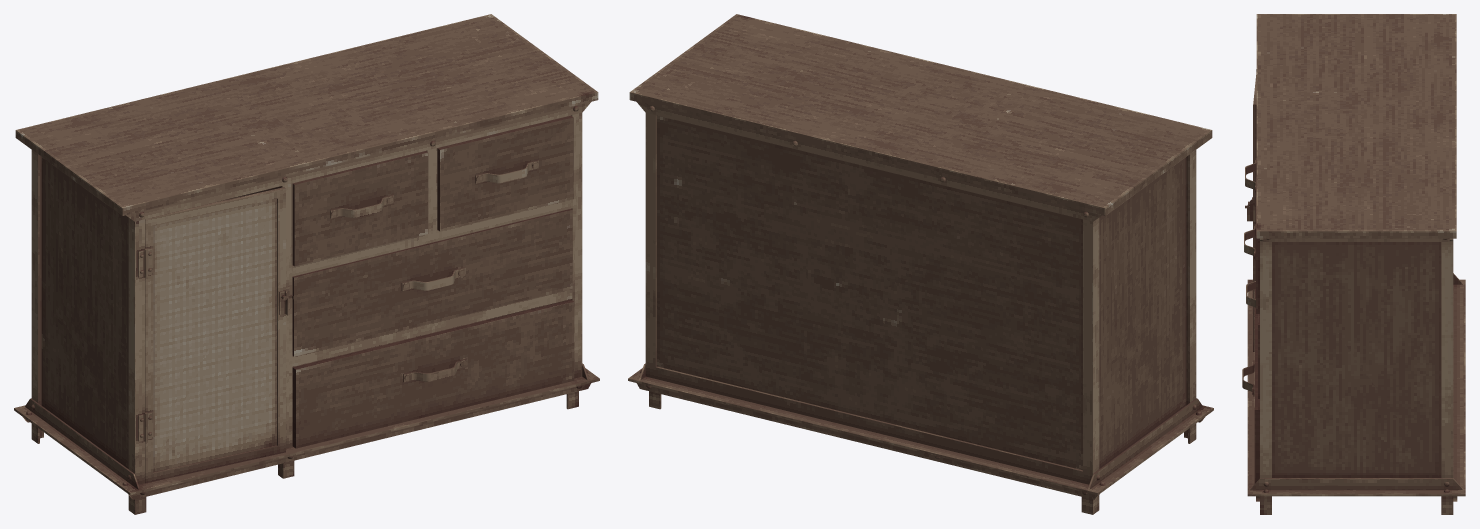
The model's file is WoodenTable_03.glb.
3 renders of one model, left to right at view 1: azimuth 30°, elevation 25°; view 2: azimuth 150°, elevation 25°; view 3: azimuth 270°, elevation 25°, orthographic. The views are drawn at different scales.
Parts seen in each view (by area): view 1: body; view 2: body; view 3: body.
Part boxes in pixels (<box>): body: <box>14,14,599,514</box>; body: <box>628,14,1213,514</box>; body: <box>1242,14,1465,514</box>.
Size of the model in its own units: 1.33 by 0.8301 by 0.5753.
1 material, 1 textured.
